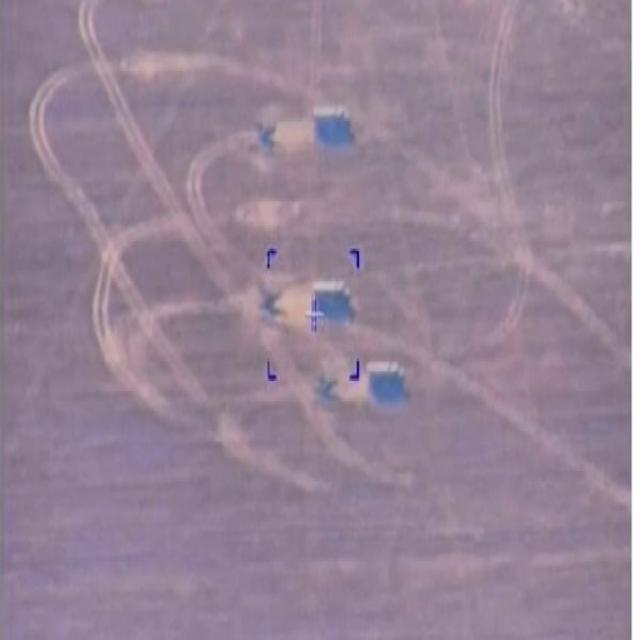ART: (250, 116, 284, 156), (310, 369, 340, 404), (256, 287, 286, 320)
TRUCK: (362, 356, 407, 396), (313, 102, 357, 142), (312, 276, 352, 314)
